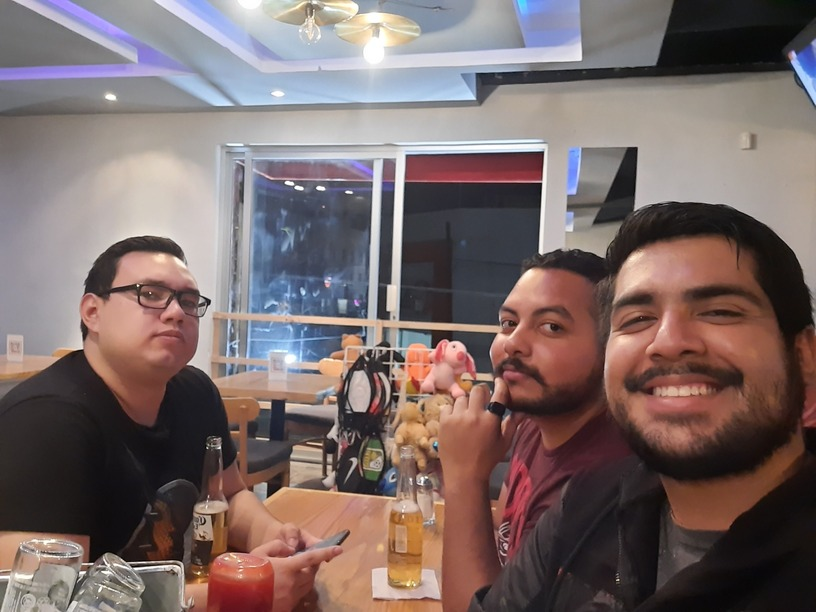Yoshi: (458, 235, 605, 428)
